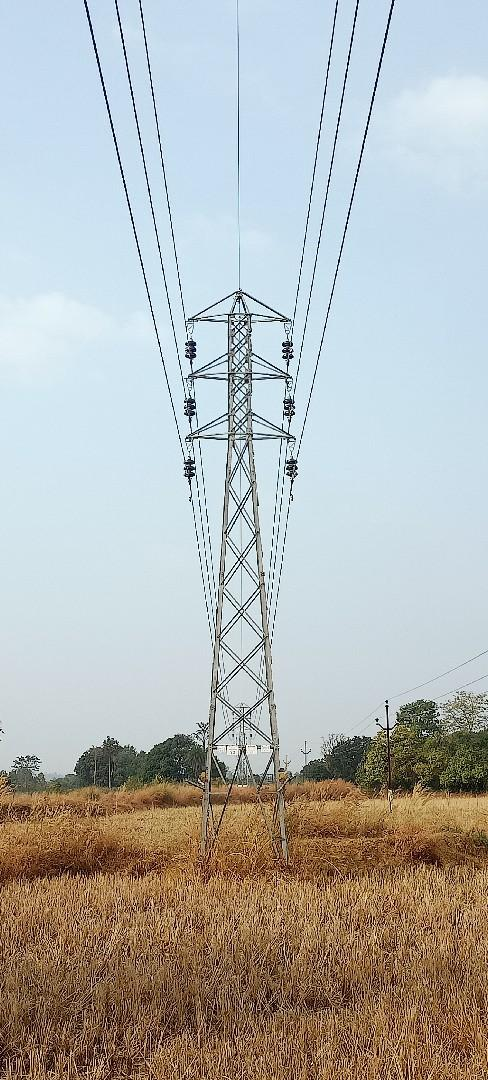GSM Antenna: (182, 286, 307, 835)
